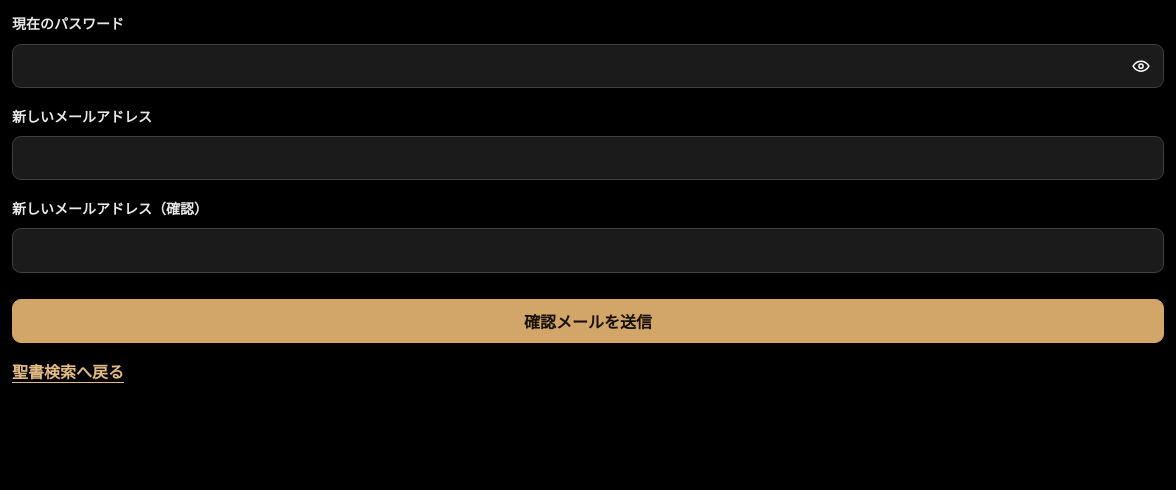
Scenario: church password recovery forms › keeps the email form editable when confirmation does not match
Type "current-password" into the password field labelled "現在のパスワード" at coordinates (588, 66), box [12,44,1164,88]
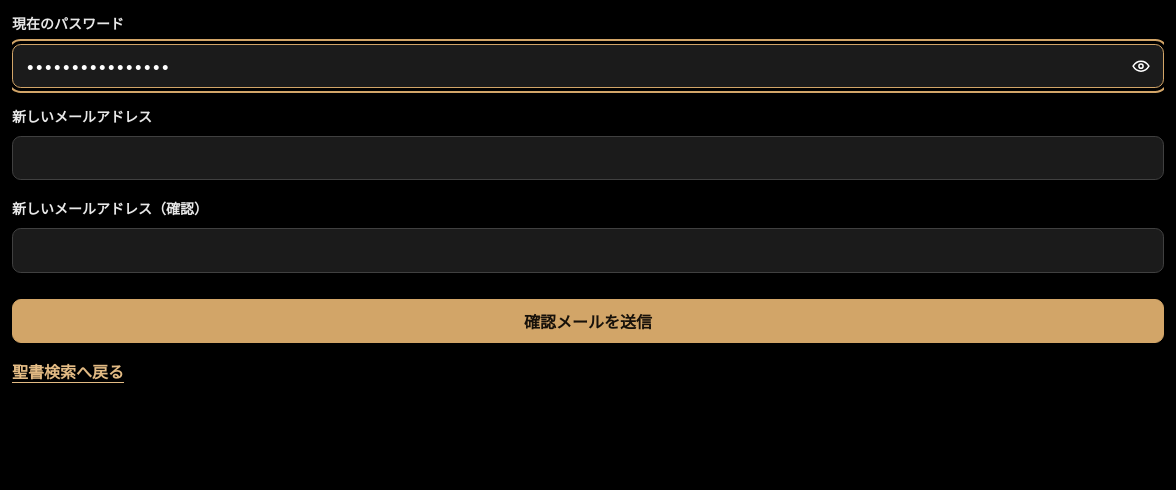
Type "new@example.com" into the field labelled "新しいメールアドレス" at coordinates (588, 158), box [12,136,1164,180]
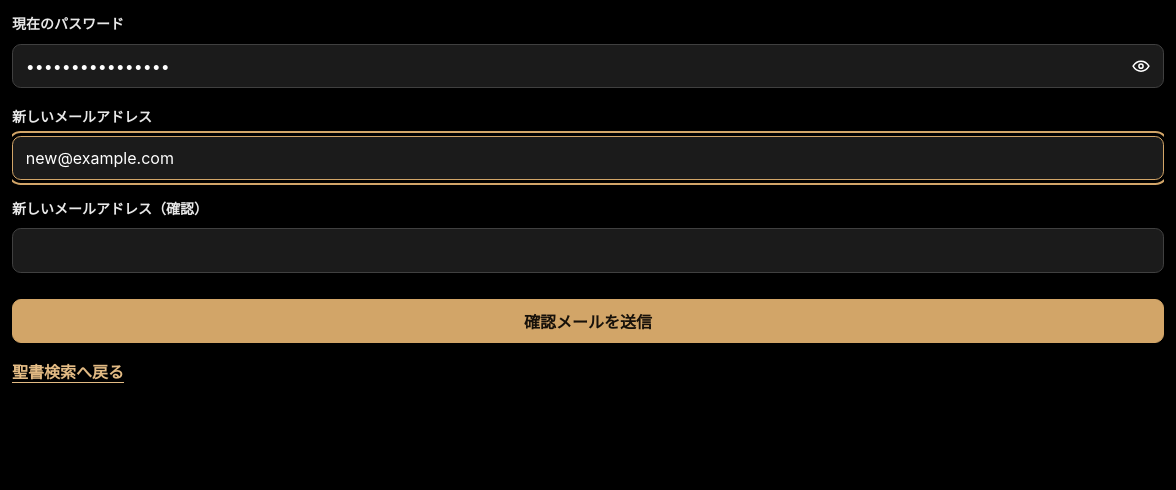
Type "other@example.com" into the field labelled "新しいメールアドレス（確認）" at coordinates (588, 250), box [12,228,1164,273]
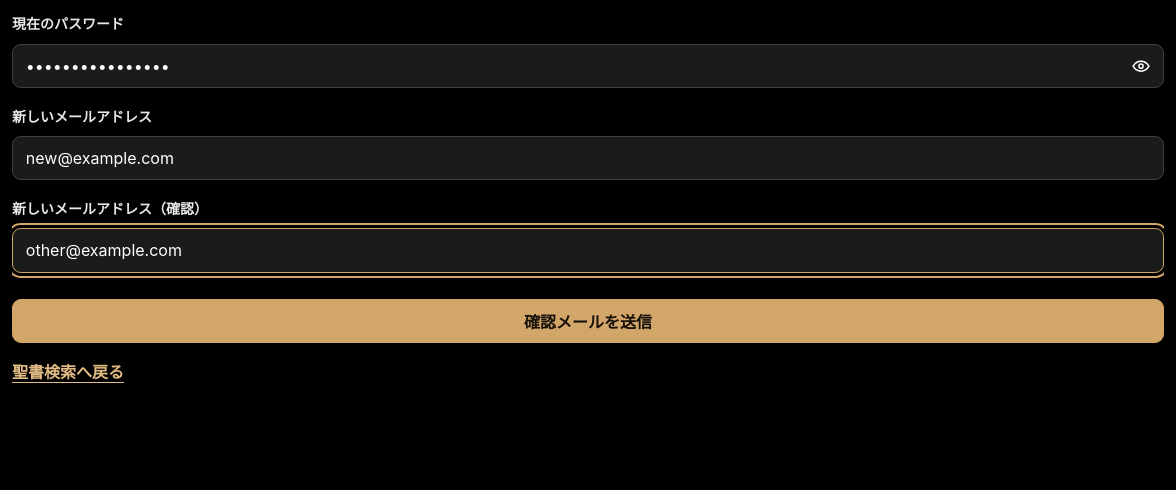
Click the button "確認メールを送信" at coordinates (588, 321), box [12,299,1164,343]
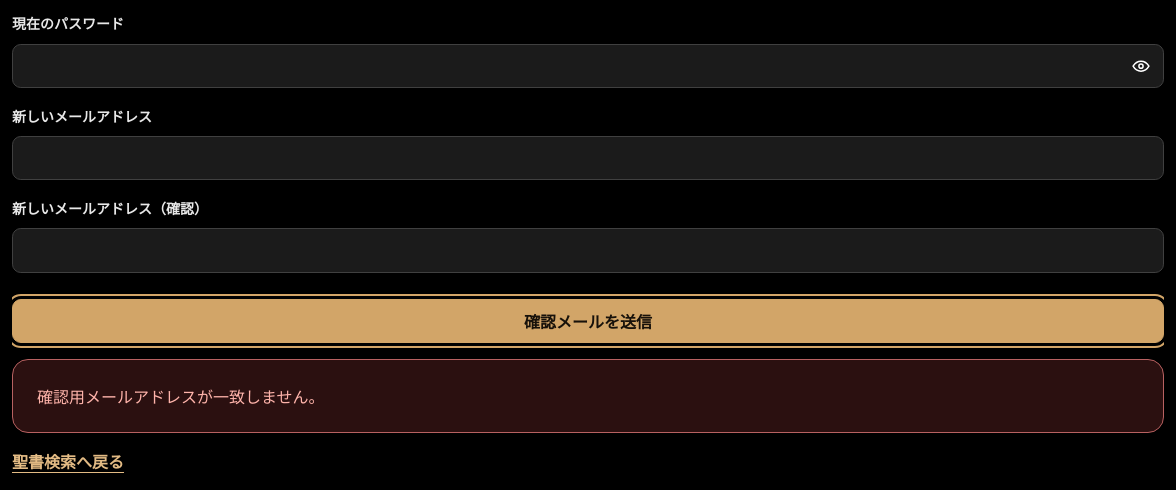
Expected: the message reads "確認用メールアドレスが一致しません。", [37,387,324,407]
